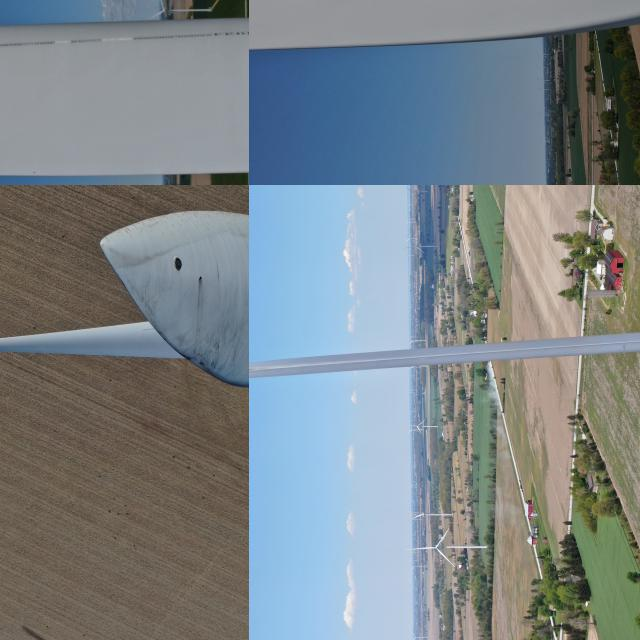damage: (100, 36, 132, 44), (194, 274, 208, 284), (51, 40, 72, 46)
